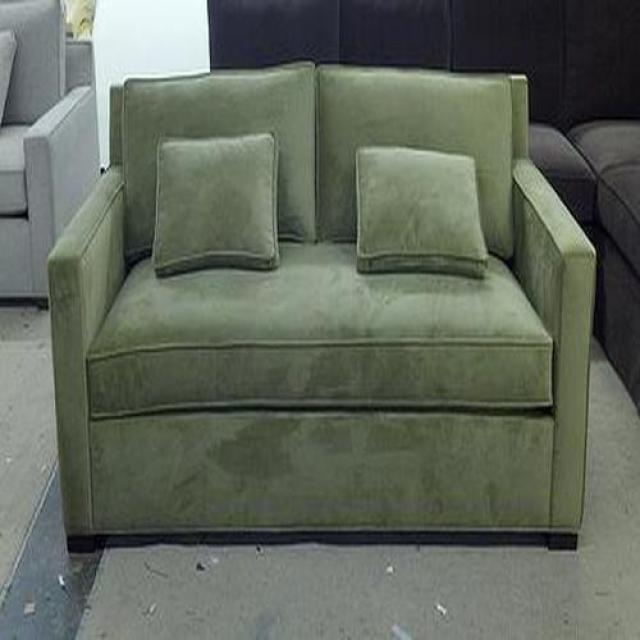sofa: (46, 63, 598, 553)
